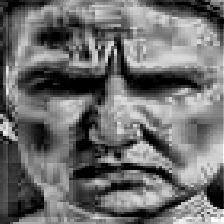angry: (9, 2, 224, 217)
